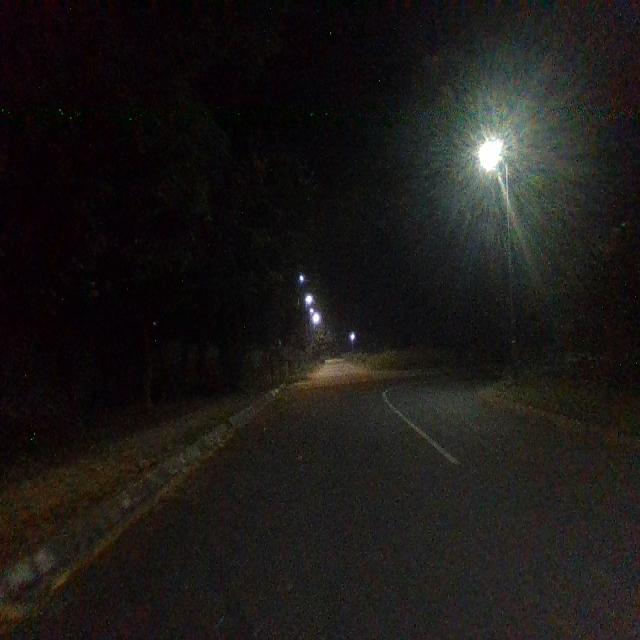lane: (8, 372, 631, 640)
